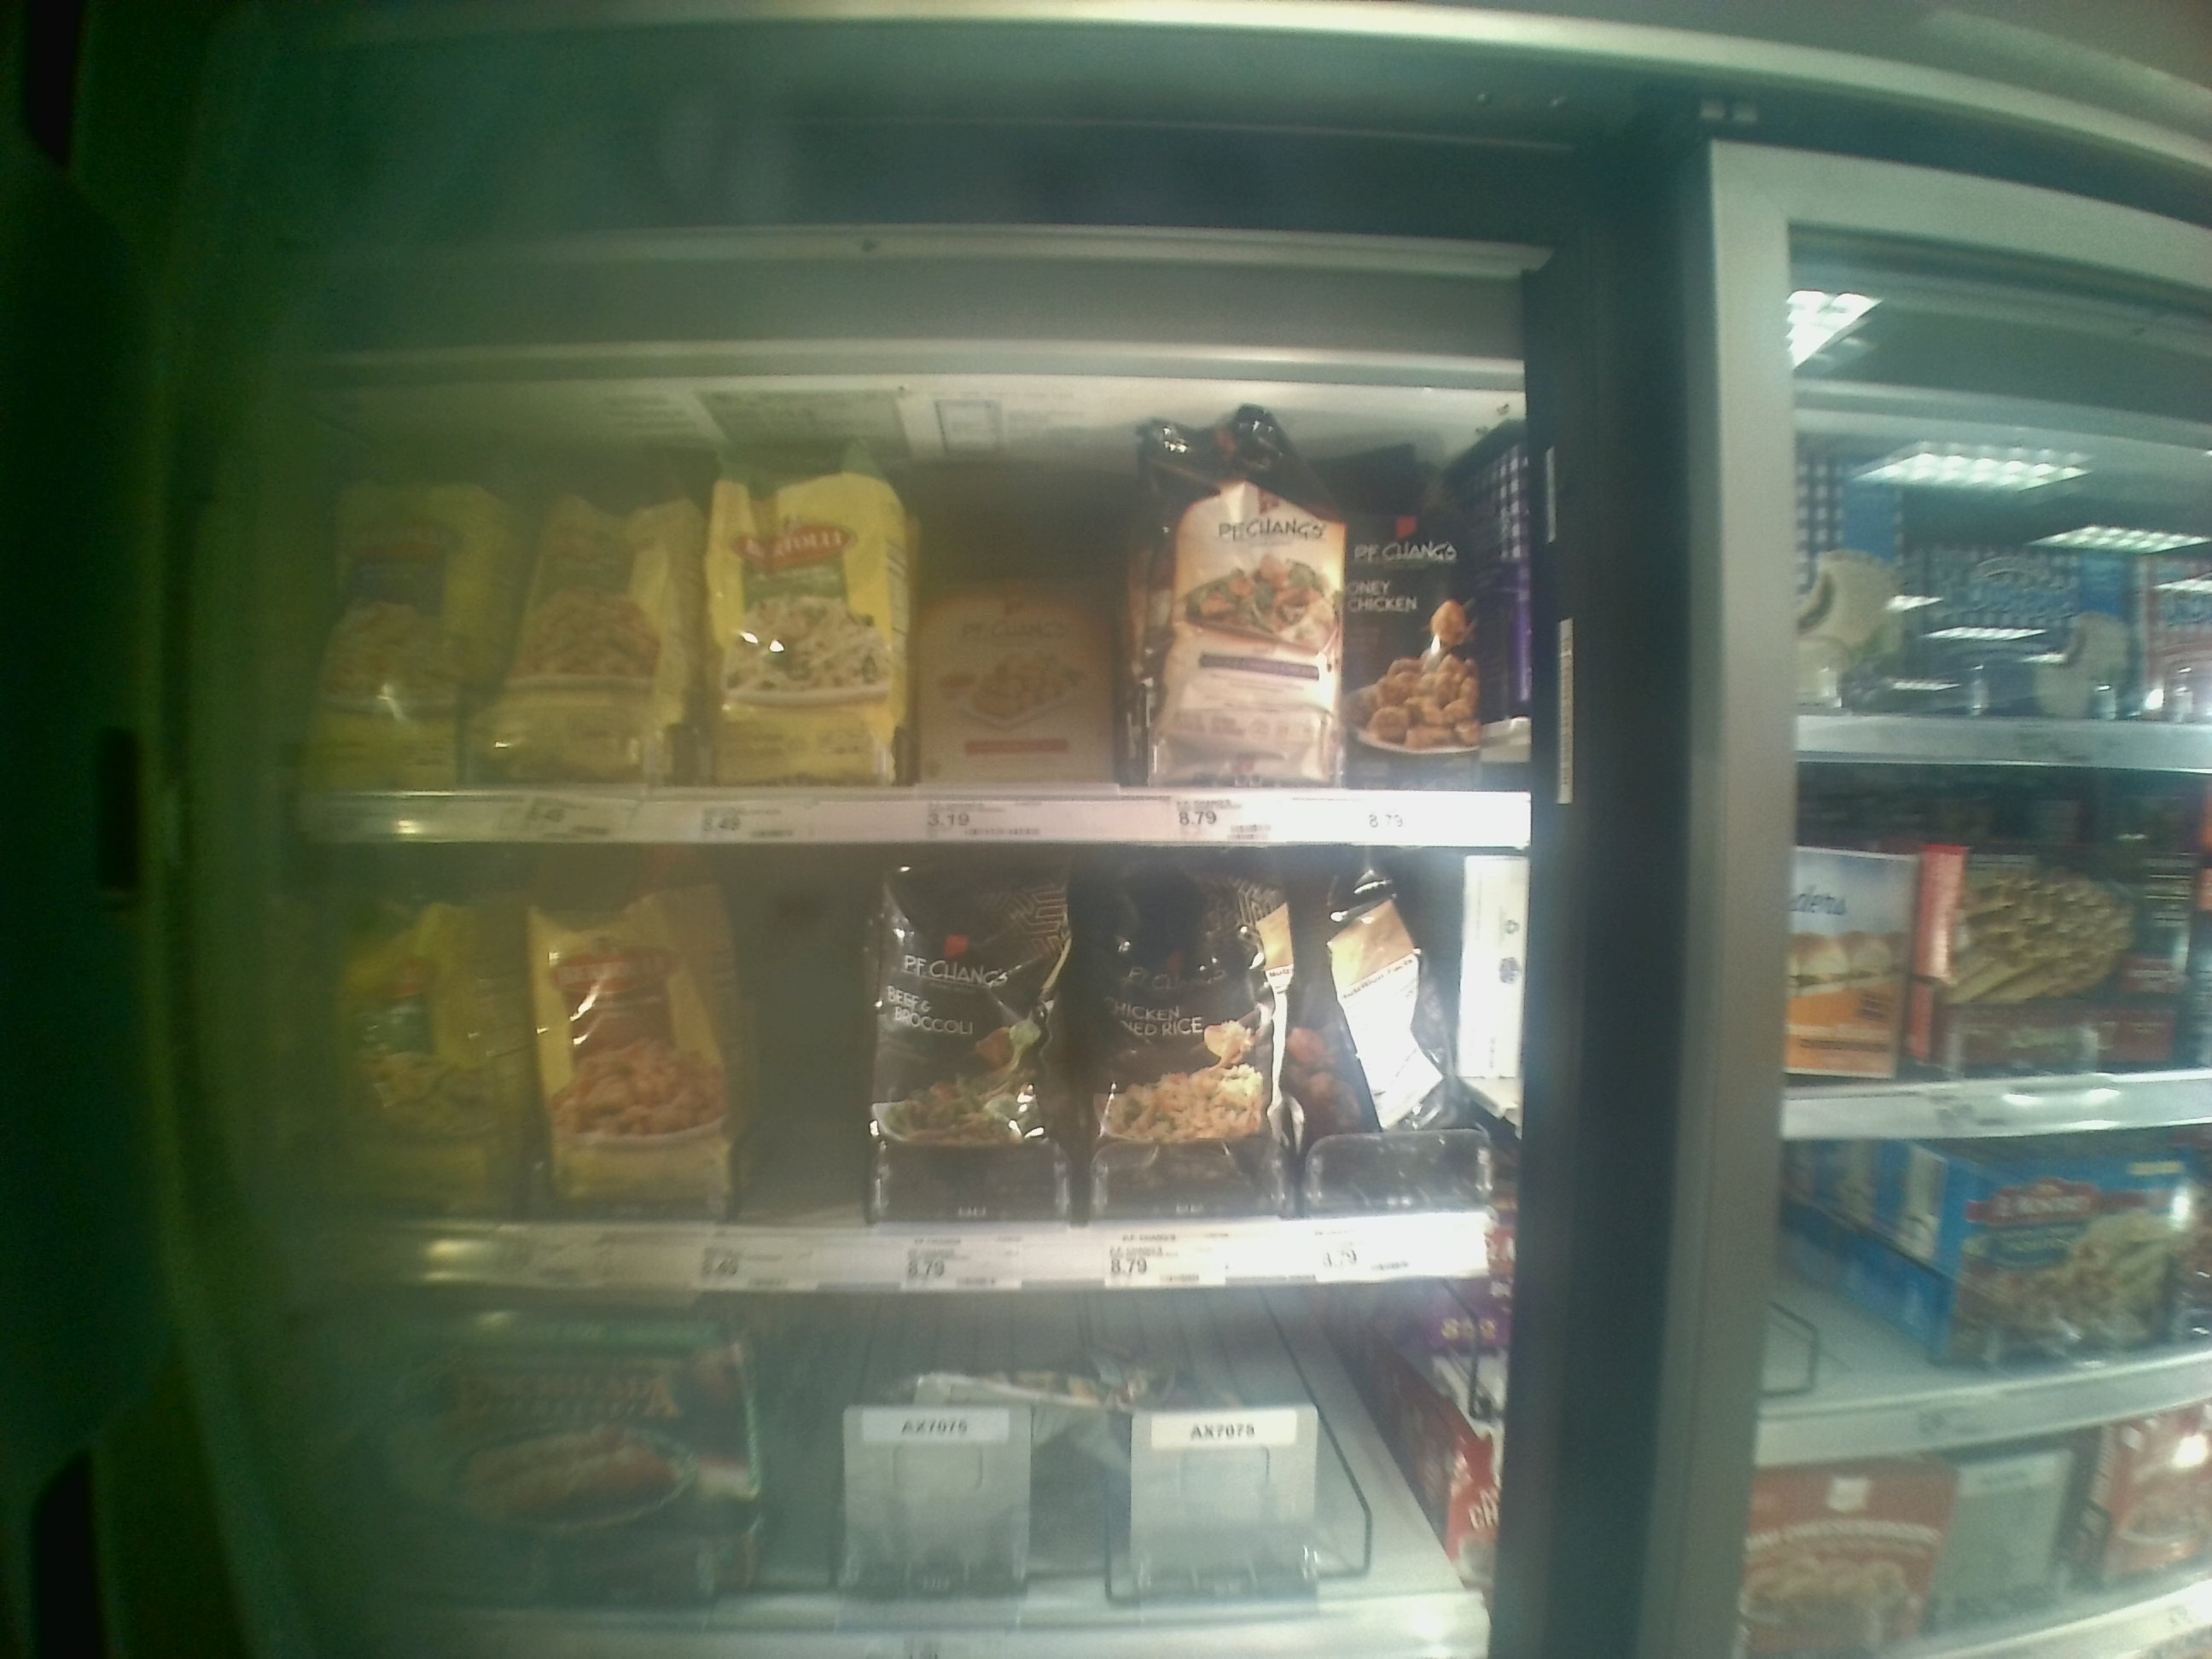frozen-food-shelf: (296, 403, 1517, 854), (320, 859, 1489, 1274)
